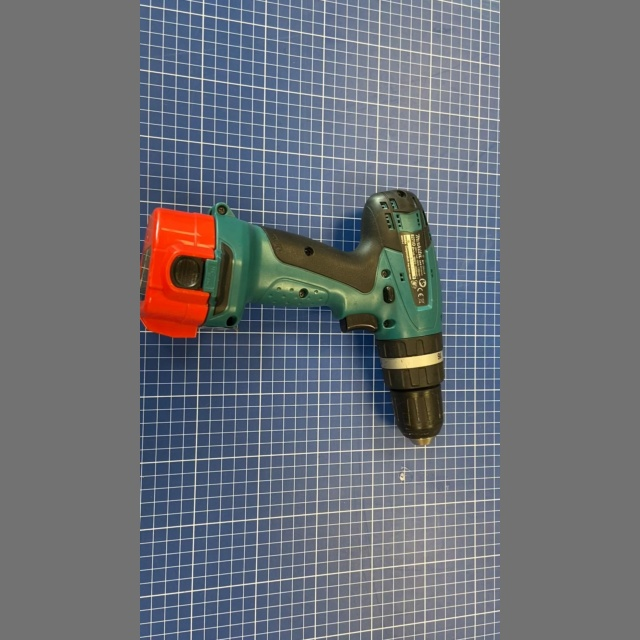drill: (140, 180, 456, 456)
